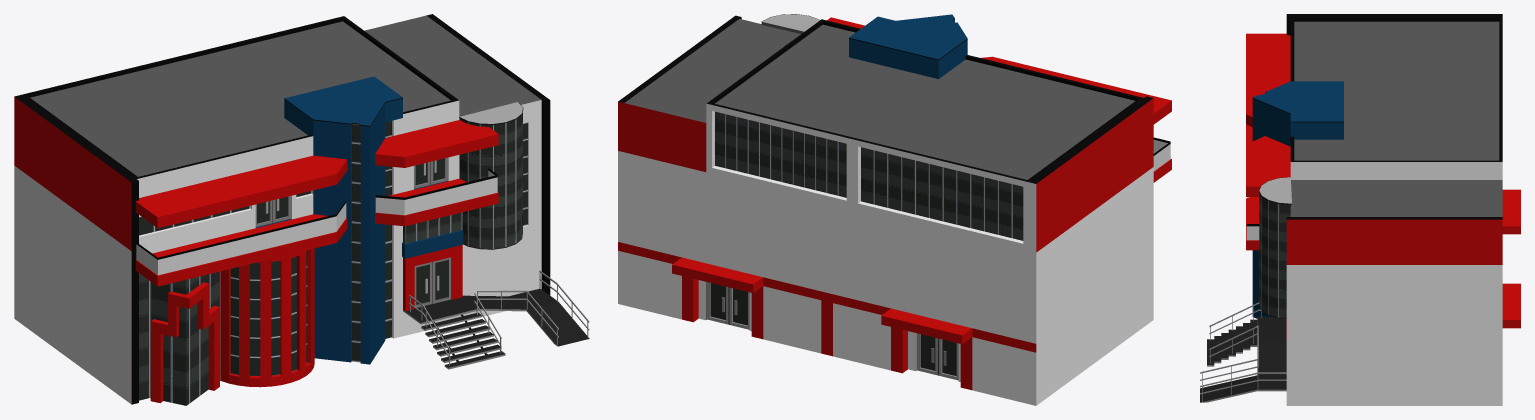
3 views of the same model, side by side, from view 1: azimuth 30°, elevation 25°; view 2: azimuth 150°, elevation 25°; view 3: azimuth 270°, elevation 25° (orthographic). The views are drawn at different scales.
Parts seen in each view (by area): view 1: BB-09; view 2: BB-09; view 3: BB-09.
Boxes of the visible parts, <box> form: BB-09: <box>14,14,589,405</box>; BB-09: <box>618,14,1171,405</box>; BB-09: <box>1200,14,1520,405</box>.
Size of what is drawn, in the model's own units: 24.64 by 13.43 by 17.8.
